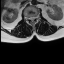CCS_normal: (31, 15, 33, 23)
LFS_stenosis: (35, 15, 37, 20)
LLS_normal: (33, 15, 35, 21)
RFS_normal: (27, 15, 30, 21)
RLS_normal: (30, 15, 31, 21)
